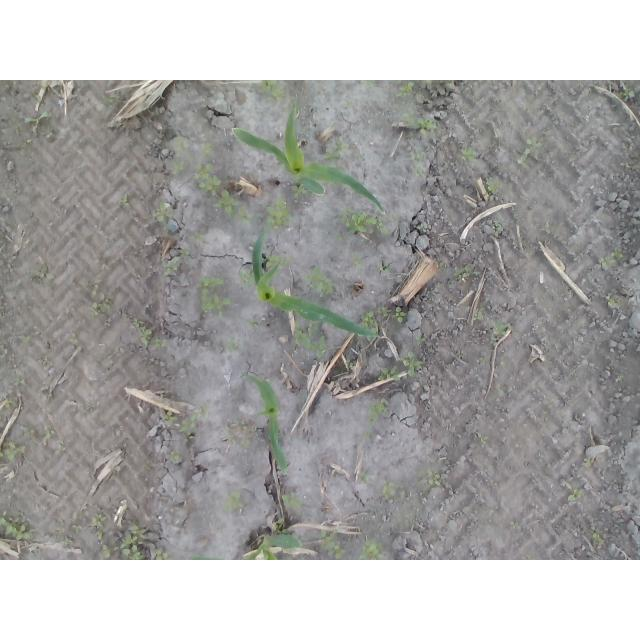Maize: (231, 95, 386, 213), (251, 224, 382, 338), (241, 370, 288, 475), (187, 534, 303, 560)
Weeds: (197, 276, 232, 320), (339, 206, 389, 235), (293, 321, 327, 360), (113, 524, 147, 560), (0, 511, 32, 542), (305, 266, 335, 298), (315, 527, 345, 559), (264, 199, 293, 230), (194, 163, 222, 195), (323, 135, 350, 164), (404, 113, 437, 135), (358, 536, 387, 560), (89, 293, 116, 318), (213, 190, 240, 215), (358, 310, 379, 342), (24, 108, 51, 132), (258, 80, 287, 101), (401, 351, 424, 377), (264, 252, 291, 274), (369, 397, 388, 423), (0, 441, 24, 461), (152, 202, 173, 224), (222, 490, 244, 511), (601, 247, 624, 267), (236, 268, 258, 288), (281, 491, 303, 510), (490, 320, 514, 337), (32, 266, 56, 283), (564, 482, 584, 502), (524, 135, 544, 155), (224, 336, 245, 355), (377, 367, 400, 382), (233, 205, 252, 223), (460, 148, 481, 164), (162, 257, 180, 275), (397, 82, 416, 99), (589, 527, 606, 545), (180, 413, 197, 431), (426, 467, 442, 486), (381, 479, 395, 500), (485, 179, 502, 196), (272, 518, 289, 535), (410, 149, 426, 166), (604, 294, 621, 310), (90, 512, 107, 528), (292, 182, 309, 198), (174, 136, 190, 152), (393, 306, 408, 323), (140, 326, 152, 347), (153, 548, 172, 561), (615, 88, 635, 100), (492, 219, 505, 237), (197, 142, 211, 158), (356, 471, 372, 485), (163, 409, 177, 425), (455, 264, 473, 276), (197, 405, 212, 418), (378, 260, 391, 275), (234, 418, 249, 431), (188, 231, 204, 243), (225, 426, 236, 443), (43, 425, 55, 440), (351, 250, 362, 266), (474, 307, 486, 321), (21, 426, 35, 438), (172, 160, 184, 174), (246, 319, 261, 330), (539, 225, 557, 234), (152, 338, 168, 348), (86, 283, 99, 295), (183, 433, 197, 444), (101, 94, 117, 103), (477, 432, 489, 444), (517, 153, 528, 166), (388, 214, 401, 225), (101, 544, 111, 558), (178, 248, 192, 258), (377, 307, 391, 317), (170, 449, 181, 461), (130, 317, 142, 328), (239, 437, 250, 448), (415, 223, 427, 233), (163, 226, 172, 239), (118, 198, 131, 207), (341, 100, 355, 108), (94, 529, 104, 540), (69, 333, 79, 344), (73, 523, 83, 534), (415, 335, 425, 346), (14, 375, 23, 387), (477, 356, 490, 364), (345, 358, 355, 368), (414, 168, 425, 177), (1, 192, 12, 201), (59, 539, 73, 546), (84, 402, 96, 410), (360, 81, 373, 88), (363, 430, 373, 439), (510, 521, 521, 529), (584, 457, 592, 468), (496, 385, 504, 396), (21, 335, 32, 343), (336, 231, 344, 241), (522, 103, 531, 111), (455, 352, 465, 359), (615, 375, 624, 382), (438, 262, 446, 269), (14, 126, 20, 135), (57, 444, 63, 453), (131, 252, 138, 259), (425, 80, 434, 84), (357, 154, 363, 159)
